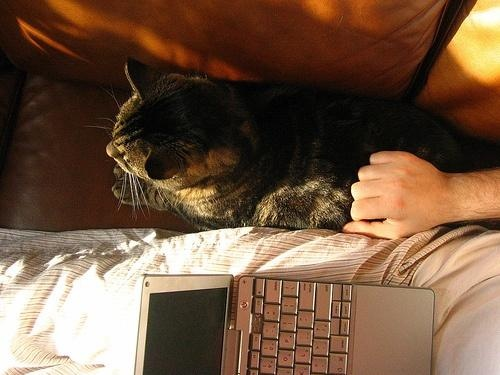cat: (100, 56, 500, 233)
